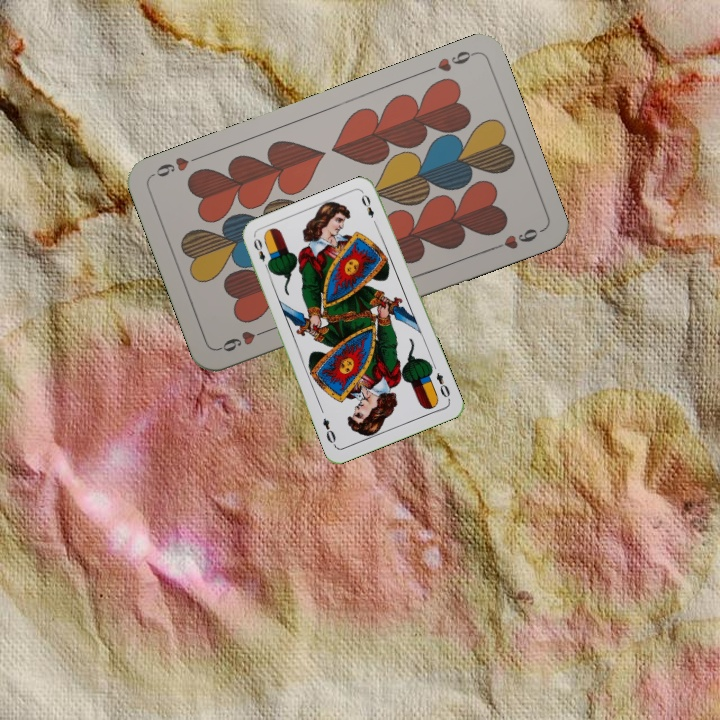EO: (249, 234, 272, 273), (432, 369, 453, 403)
H9: (215, 325, 272, 355), (420, 46, 477, 76)
